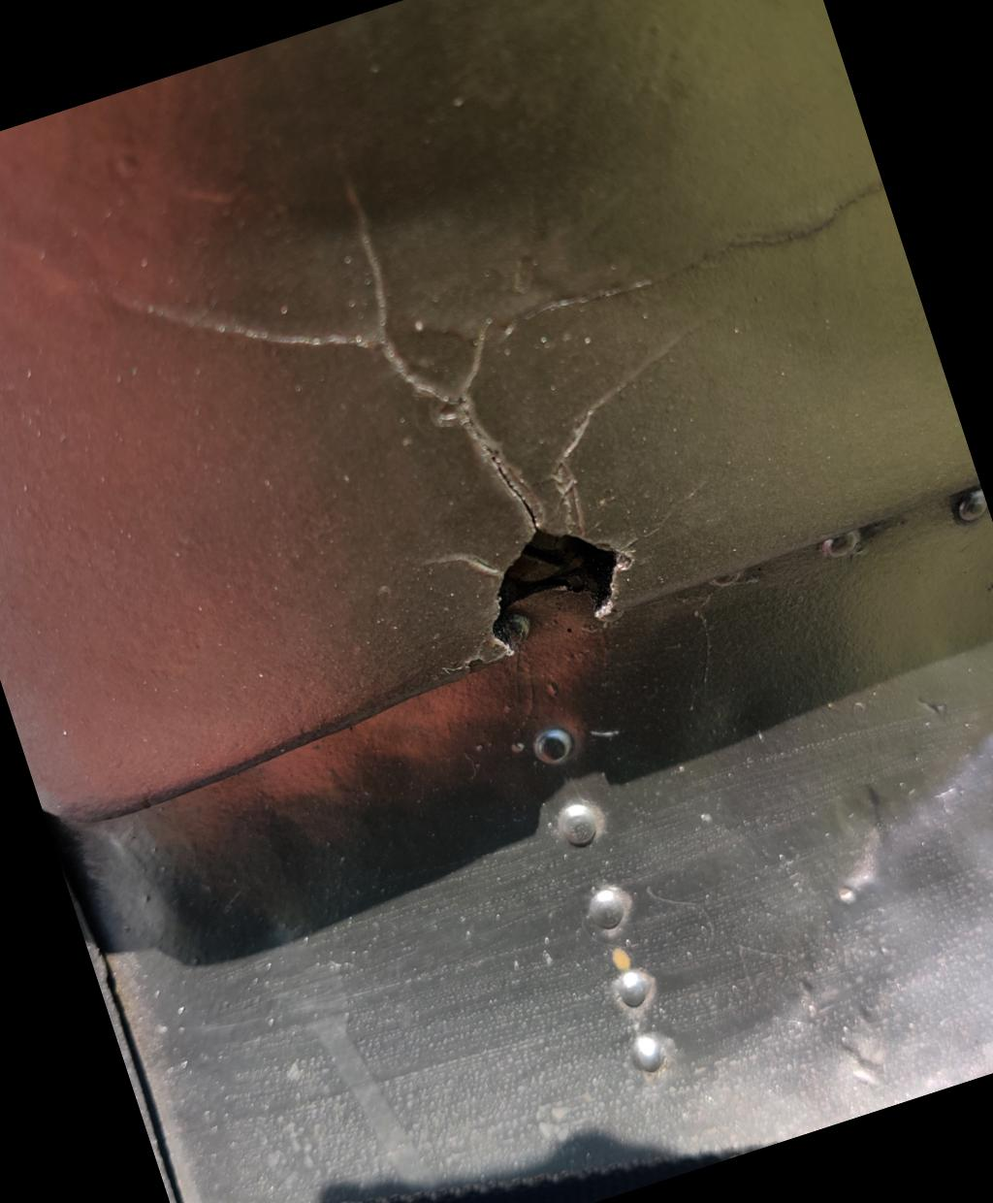crack: (106, 59, 754, 760)
